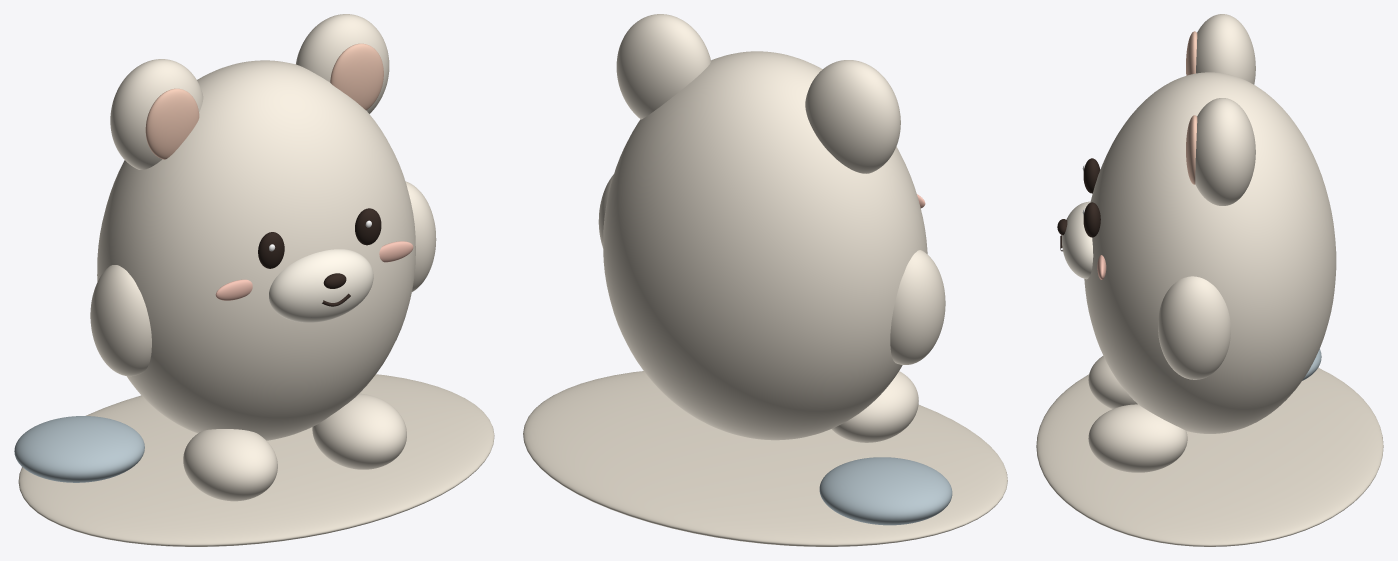
The model's file is companion-probe.glb.
3 renders of one model, left to right at view 1: azimuth 30°, elevation 25°; view 2: azimuth 150°, elevation 25°; view 3: azimuth 270°, elevation 25°, orthographic. The views are drawn at different scales.
Visible parts, largest first — view 1: body, platform, foot (×2), ear (×2), cushion, muzzle, resting_paw, ear_inner (×2), paw, eye (×2), cheek; view 2: body, platform, ear (×2), cushion, resting_paw, foot; view 3: body, platform, ear (×2), foot (×2), paw, muzzle, ear_inner (×2), eye (×2).
Part boxes in pixels (box(x1,y1,x2,y2)): body: box(97, 60, 415, 440); platform: box(18, 374, 494, 546); foot (×2): box(183, 393, 406, 501); ear (×2): box(110, 14, 389, 169); cushion: box(14, 416, 144, 482); muzzle: box(269, 249, 373, 322); resting_paw: box(90, 265, 151, 376); ear_inner (×2): box(145, 43, 383, 159); paw: box(405, 181, 436, 291); eye (×2): box(258, 208, 381, 268); cheek: box(215, 279, 252, 300); body: box(603, 51, 927, 440); platform: box(523, 371, 1007, 546); ear (×2): box(616, 14, 900, 173); cushion: box(819, 457, 952, 525); resting_paw: box(890, 250, 945, 364); foot: box(831, 371, 918, 442); body: box(1084, 72, 1336, 433); platform: box(1036, 368, 1383, 546); ear (×2): box(1195, 14, 1255, 205); foot (×2): box(1088, 355, 1187, 472); paw: box(1158, 276, 1230, 379); muzzle: box(1062, 201, 1093, 279); ear_inner (×2): box(1186, 31, 1197, 184); eye (×2): box(1083, 158, 1100, 237).
Bounding box in the file's own units: 1.9 × 1.79 × 1.4.
